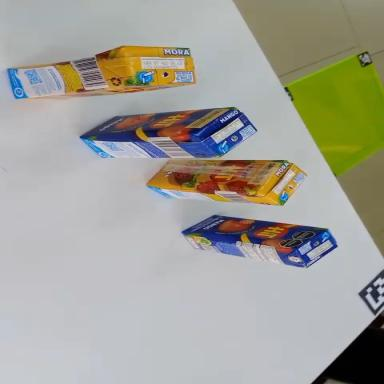HIT-MANGO: (180, 211, 339, 271), (81, 107, 256, 158)
HIT-MORA: (7, 36, 196, 110), (147, 159, 306, 206)
cara_F: (181, 211, 328, 253), (79, 107, 237, 138), (146, 159, 286, 193), (22, 78, 195, 105)
